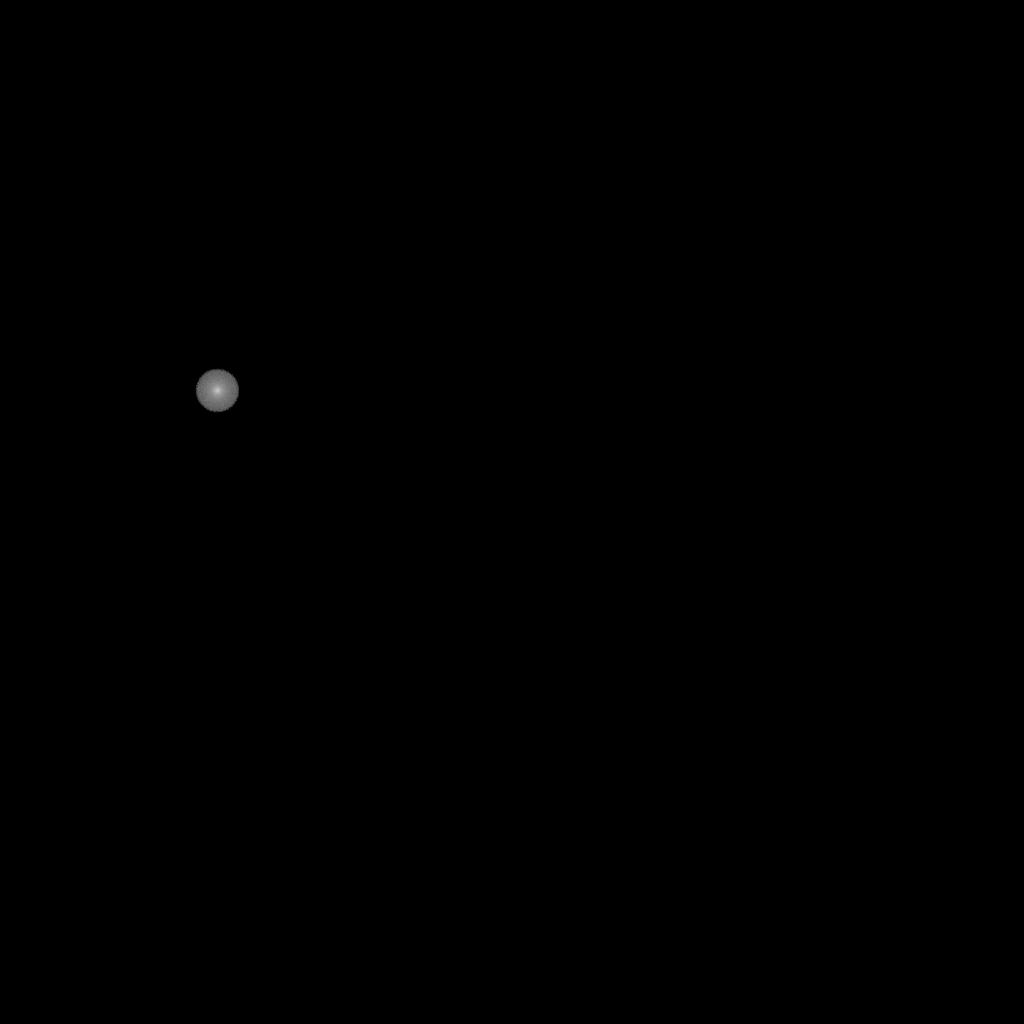depth:10: (195, 369, 239, 413)
